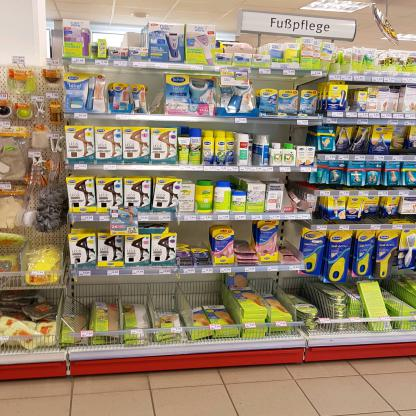Void: (145, 72, 164, 116), (179, 219, 207, 247), (234, 222, 249, 239)
